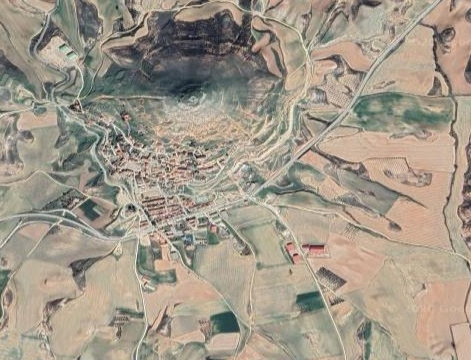motorway: (312, 1, 450, 137), (202, 130, 326, 229), (1, 207, 210, 253)
